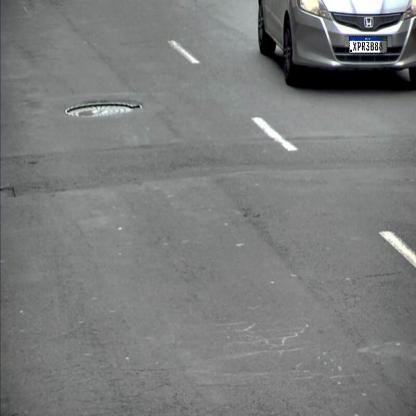PlacaM: (349, 36, 387, 53)
